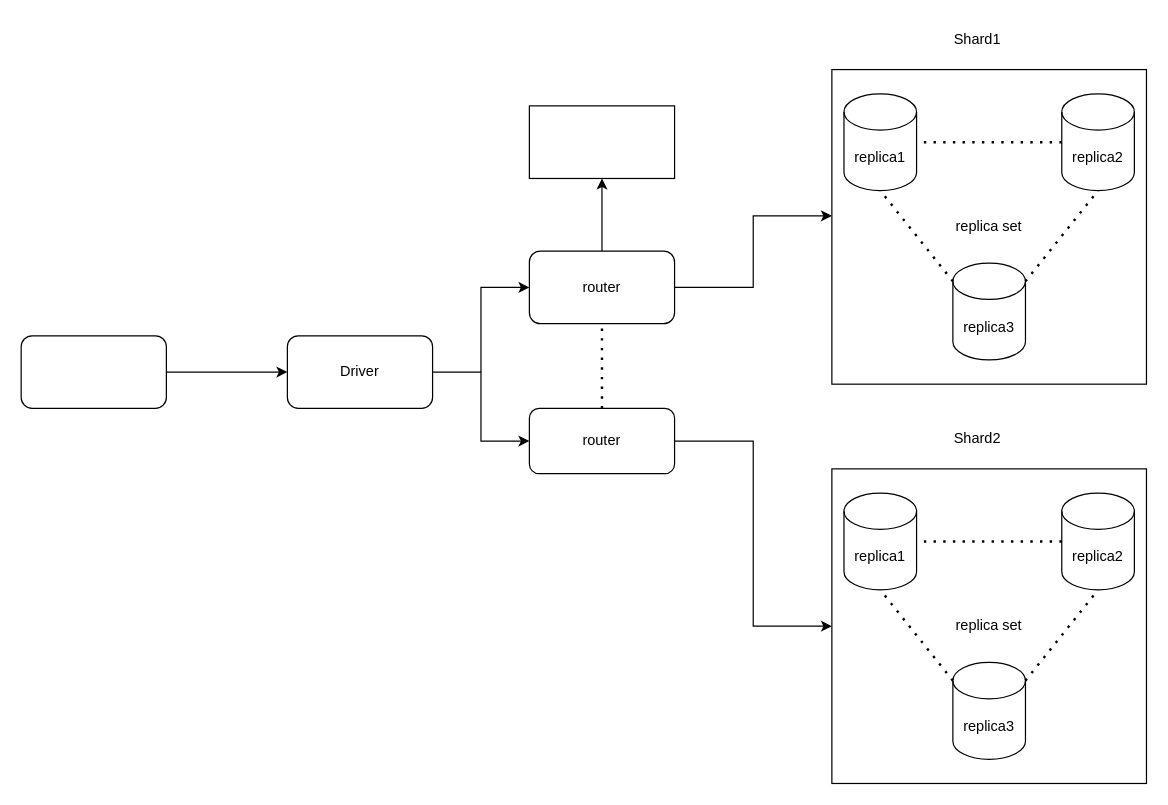
Image size: 1168x805. Some labels were removed from this diagram. The centre of each missing label's shape, as x and y in pixels:
"configSrv" goes at point 601,141.
"pymongo-api" goes at point 93,371.
